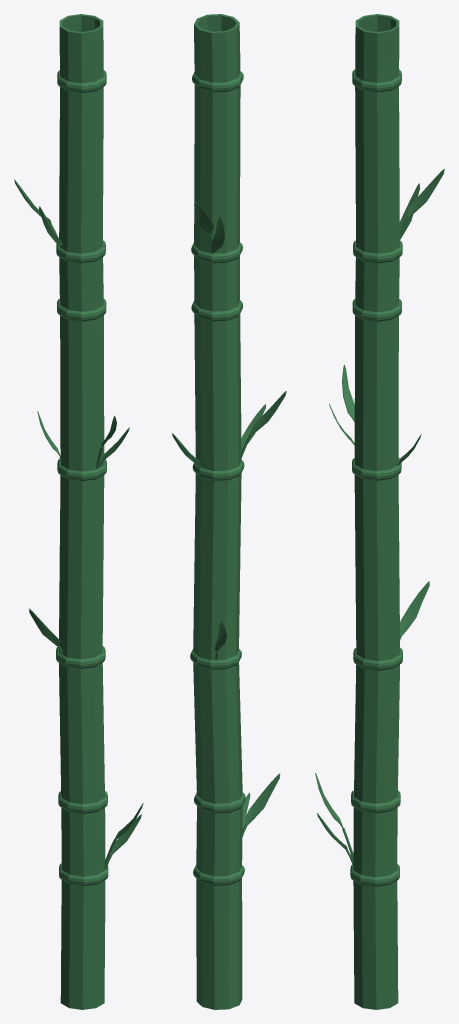
File: bambooTree.fbx
3 renders of one model, left to right at view 1: azimuth 90°, elevation 25°; view 2: azimuth 150°, elevation 25°; view 3: azimuth 270°, elevation 25°, orthographic.
Parts seen in each view (by area): view 1: bambooTree; view 2: bambooTree; view 3: bambooTree.
Boxes of the visible parts, x1=… form: bambooTree: x1=14, y1=14, x2=143, y2=1009; bambooTree: x1=172, y1=14, x2=286, y2=1009; bambooTree: x1=315, y1=14, x2=444, y2=1009.
Size of the model in its own units: 0.2615 by 3.2 by 0.3847.
